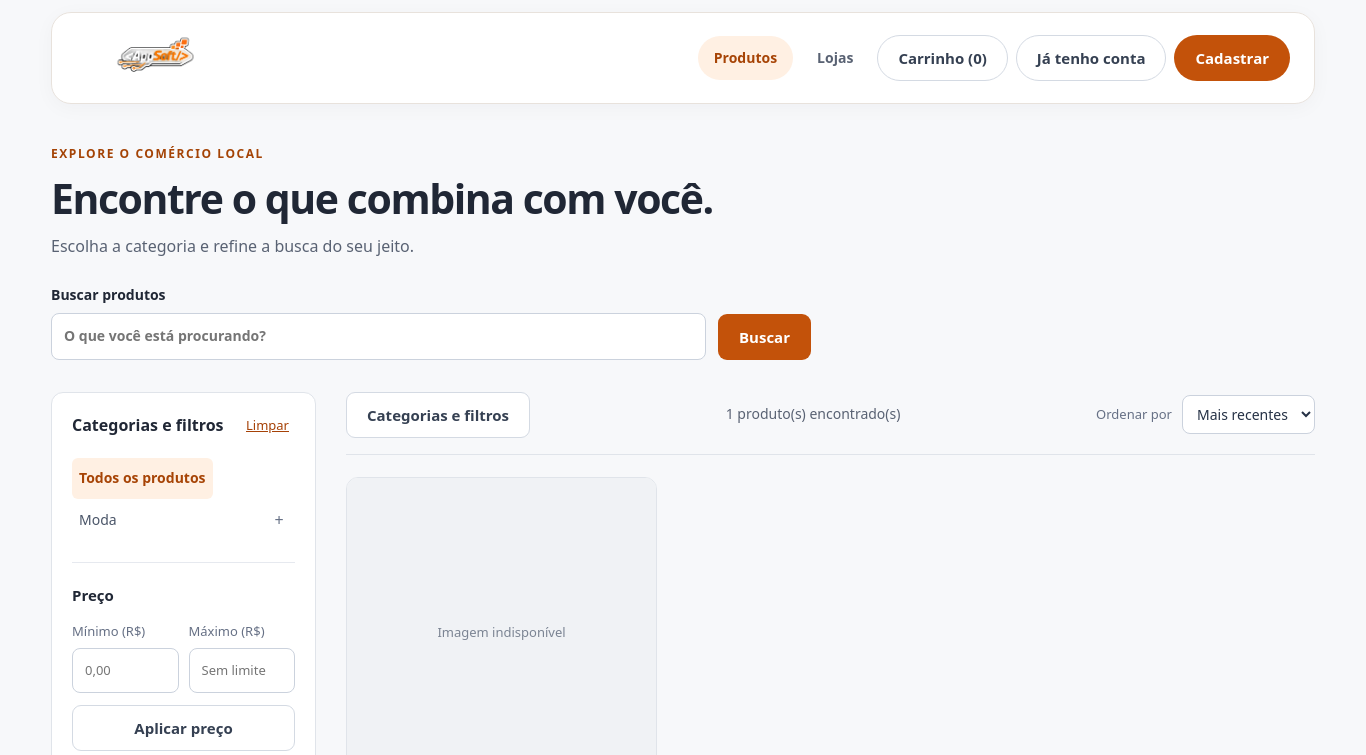
Test case: valida preço mínimo e máximo antes de enviar
This screenshot has width=1366, height=755.
Type "200" into the field labelled "Mínimo (R$)" at (125, 670), box 72,648 -> 178,693
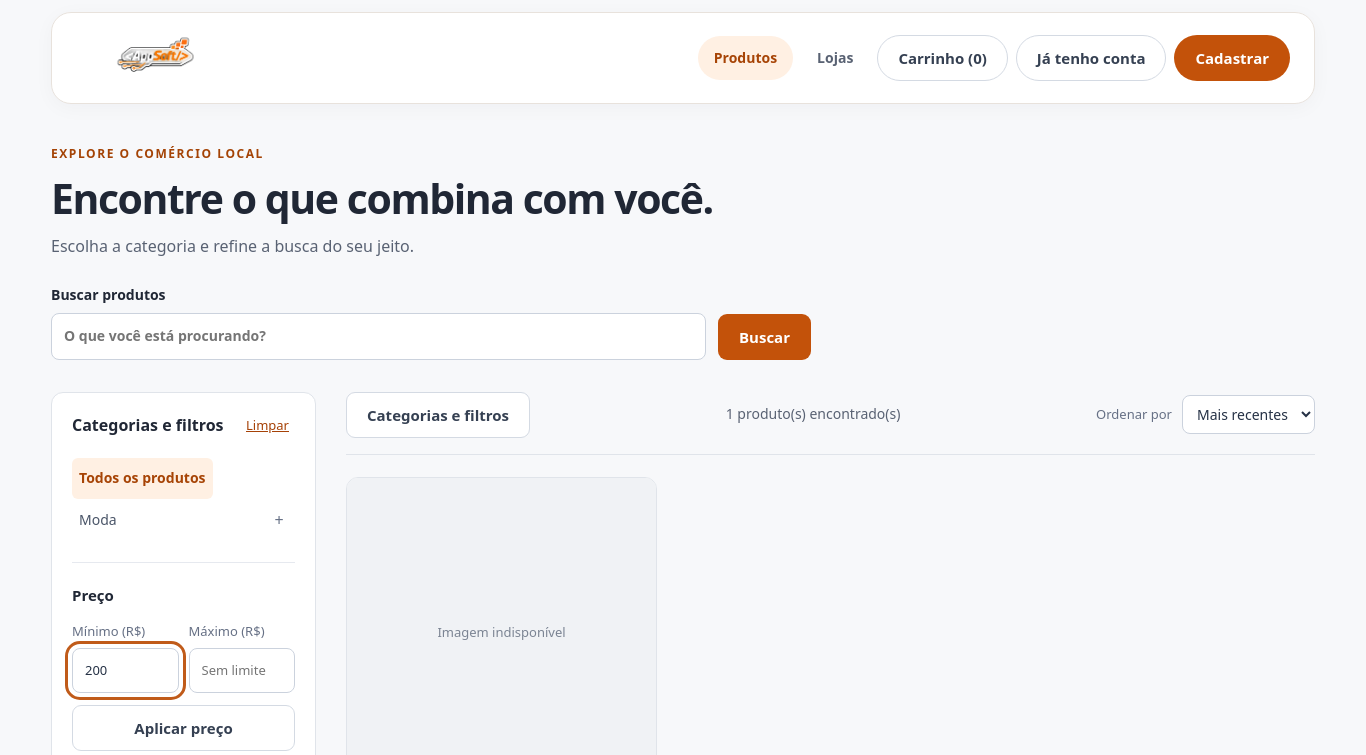
Type "100" into the field labelled "Máximo (R$)" at (242, 670), box 188,648 -> 295,693
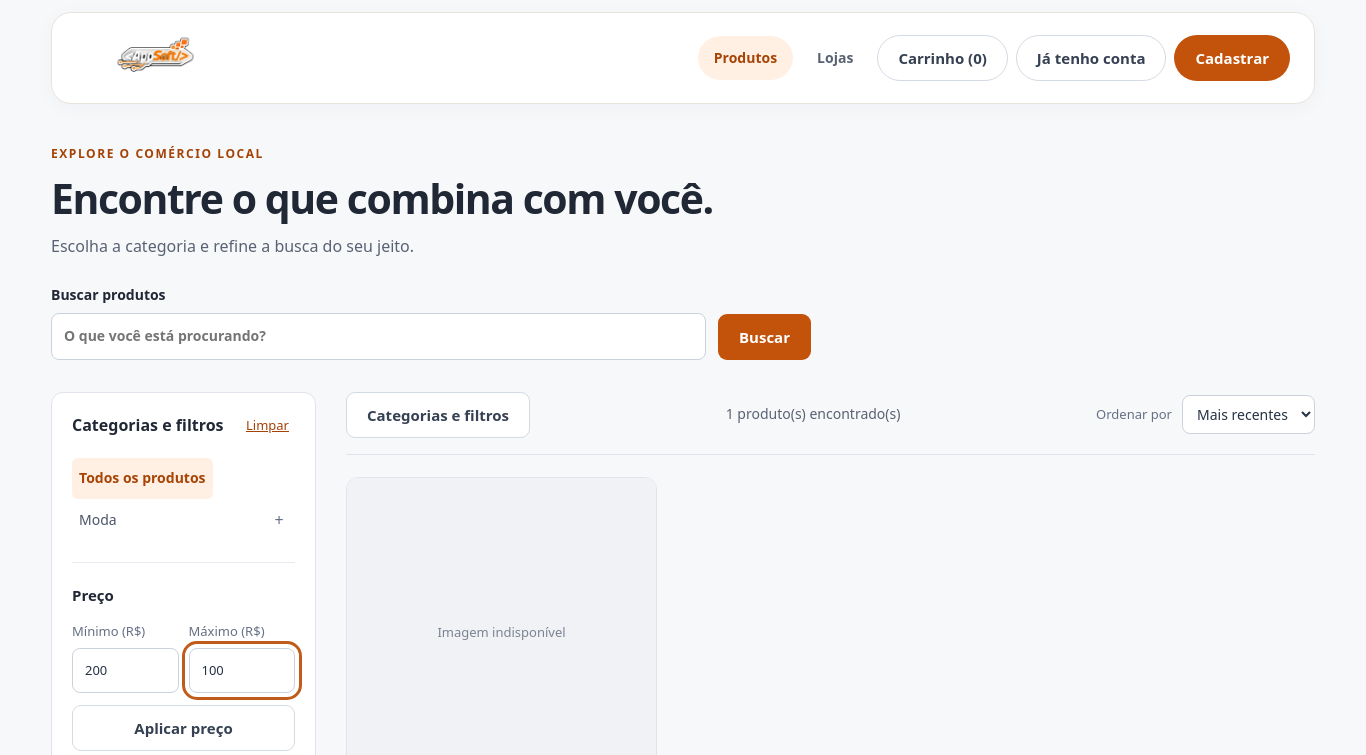
Click the button "Aplicar preço" at (184, 728), box 72,705 -> 295,751
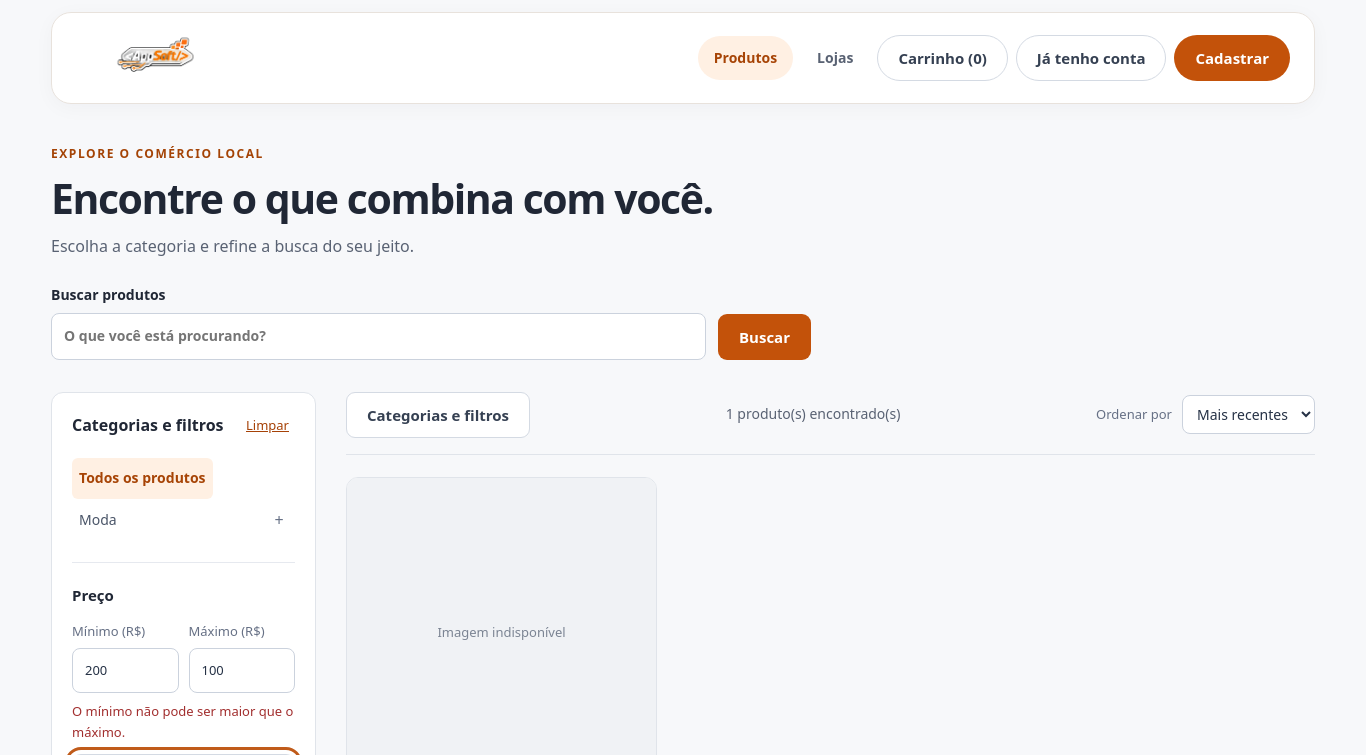
Expected: the message "O mínimo não pode ser maior que o máximo." is shown, 72,693 -> 295,742
